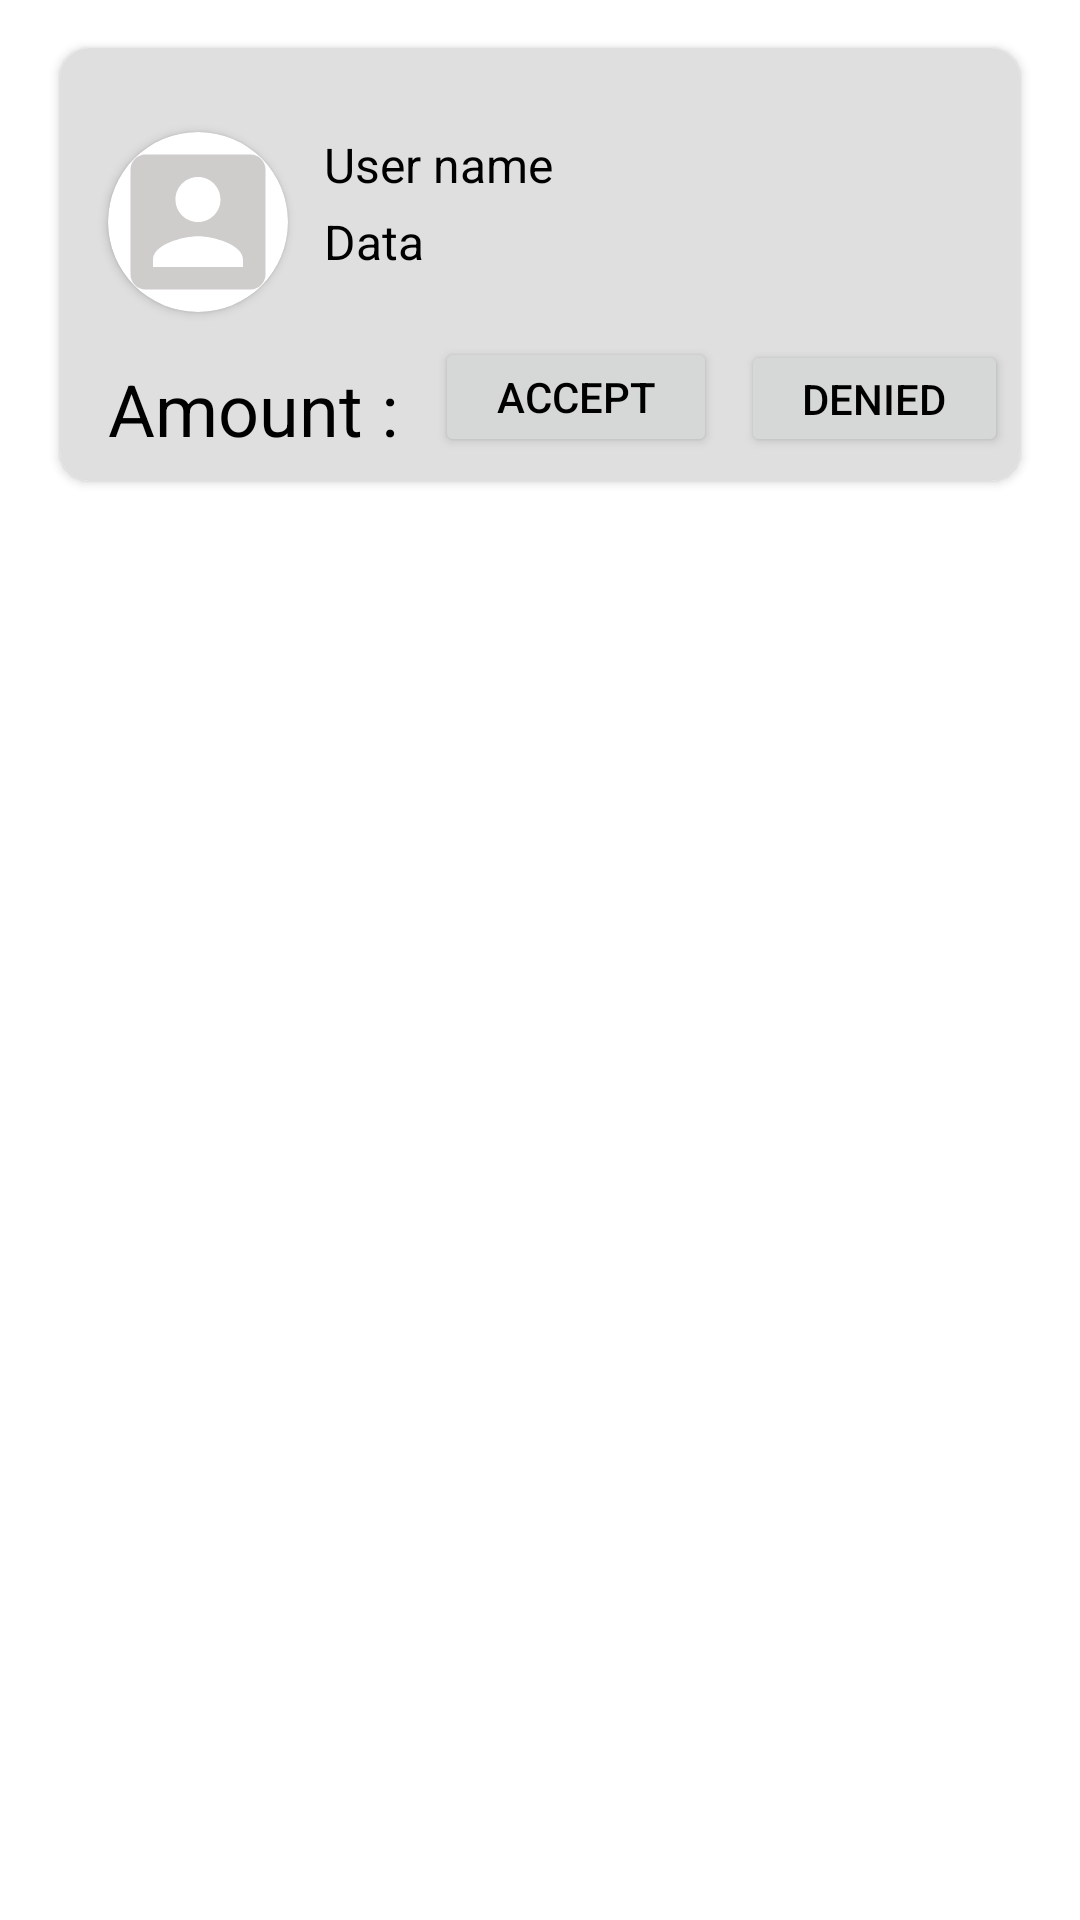

Named icons in this screenshot (1080px×1920px) and their bounding boxes, (left=x1, top=y1, right=x2, bottom=y2):
account pic: (left=108, top=132, right=288, bottom=312)
